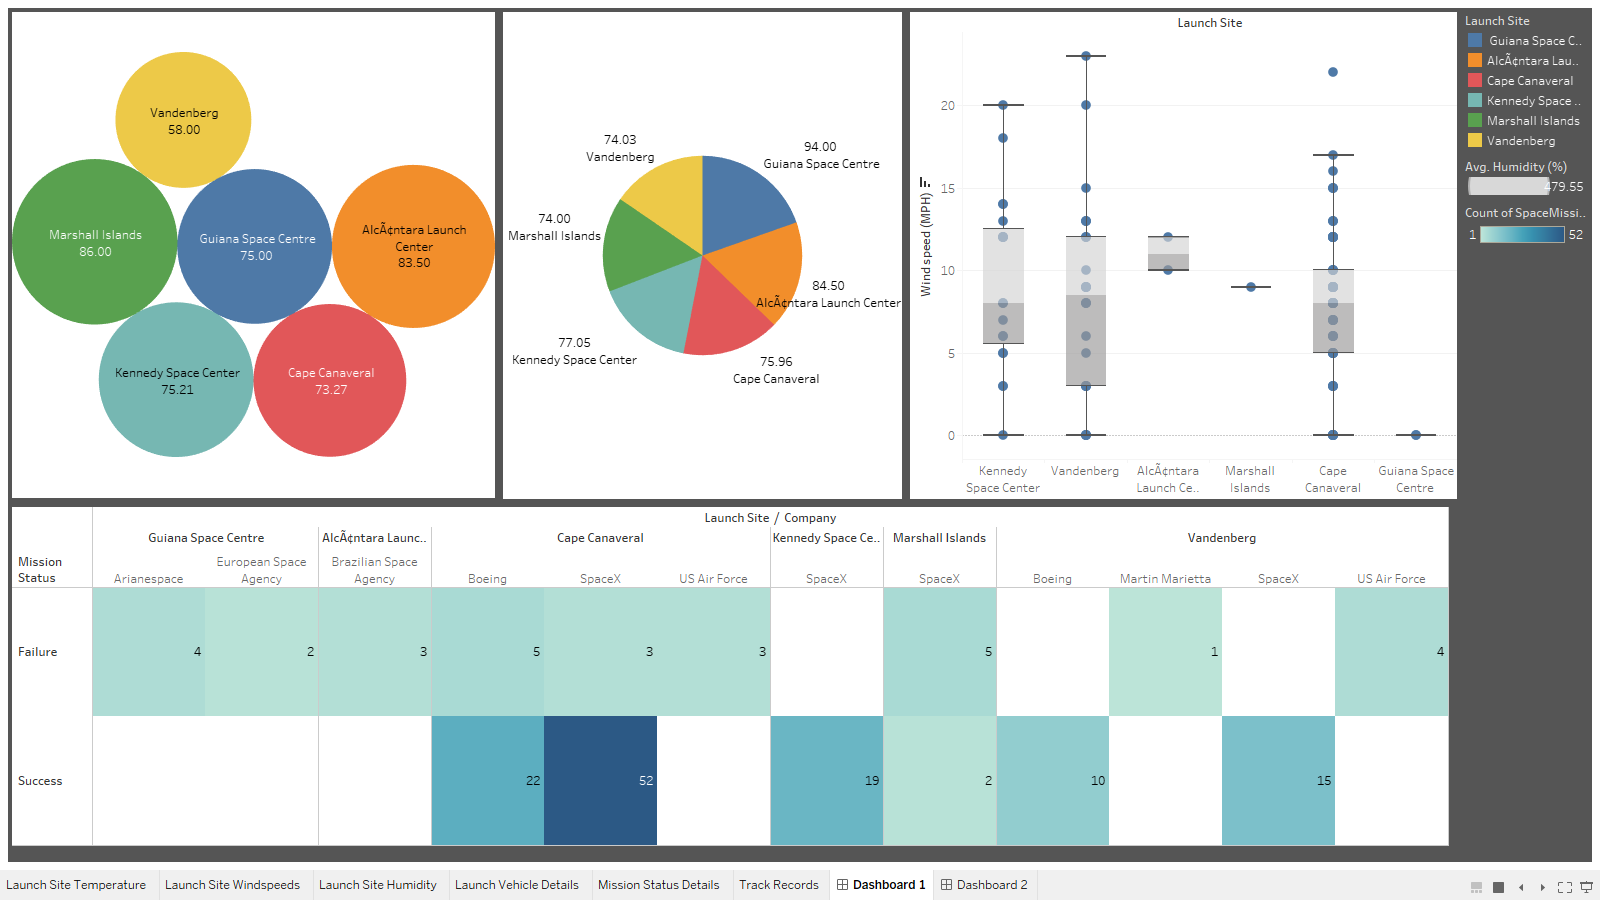

This screenshot's page, from the dashboard's own definition file:
{"tool":"tableau","page":{"name":"Dashboard 1","canvas":[1000,1000],"units":"permille","ordinal":0},"visuals":[{"type":"worksheet","title":"Launch Site Temperature","mark":"Circle","box":[5,9.2,307.1,569.5]},{"type":"worksheet","title":"Launch Site Humidity","mark":"Pie","box":[312.1,9.2,254.3,569.5]},{"type":"worksheet","title":"Launch Site Windspeeds","mark":"Circle","rows":["Wind speed (MPH)"],"cols":["Launch Site"],"box":[566.4,9.2,346.8,569.5]},{"type":"legend","title":"Launch Site Temperature","param":"[federated.1jge4w916f9qkq1b7jlyw0vfbot0].[none:Launch Site:nk]","box":[913.1,9.2,81.9,167.8]},{"type":"legend","title":"Launch Site Humidity","param":"[federated.1jge4w916f9qkq1b7jlyw0vfbot0].[avg:Humidity (%):qk]","box":[913.1,177,81.9,52.9]},{"type":"legend","title":"Track Records","param":"[federated.1jge4w916f9qkq1b7jlyw0vfbot0].[__tableau_internal_object_id__].[cnt:S","box":[913.1,229.9,81.9,74.7]},{"type":"worksheet","title":"Track Records","mark":"Square","rows":["Mission Status"],"cols":["Launch Site","Company"],"box":[5,578.7,908.1,412.1]}]}

Visuals, with their boxes on the dashboard's canvas, which has no fixed pixel size, in thousandths of its width and height (x1, y1, x2, y2). These are canvas units, not pixel positions in the 1600x900 screenshot, which may show the page scaled, cropped or inside an application window:
"Launch Site Temperature" worksheet (Circle marks): [x1=5, y1=9, x2=312, y2=579]
"Launch Site Humidity" worksheet (Pie marks): [x1=312, y1=9, x2=566, y2=579]
"Launch Site Windspeeds" worksheet (Circle marks): [x1=566, y1=9, x2=913, y2=579]
"Launch Site Temperature" legend: [x1=913, y1=9, x2=995, y2=177]
"Launch Site Humidity" legend: [x1=913, y1=177, x2=995, y2=230]
"Track Records" legend: [x1=913, y1=230, x2=995, y2=305]
"Track Records" worksheet (Square marks): [x1=5, y1=579, x2=913, y2=991]
